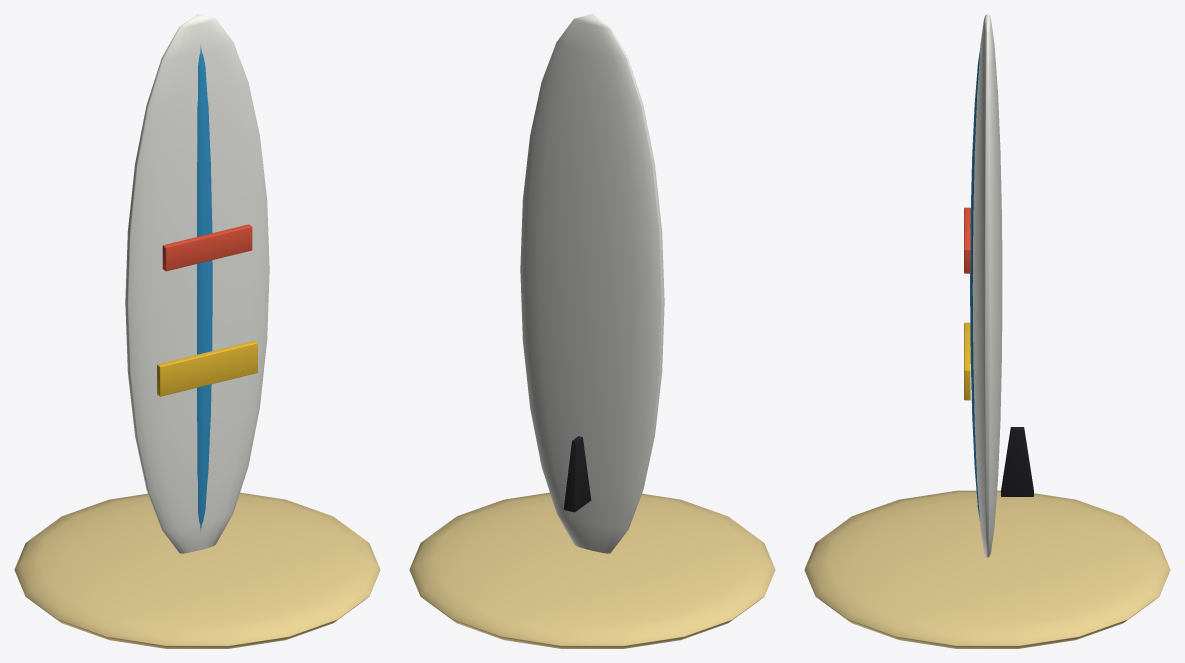
The model's file is surfboard.glb.
3 renders of one model, left to right at view 1: azimuth 30°, elevation 25°; view 2: azimuth 150°, elevation 25°; view 3: azimuth 270°, elevation 25°, orthographic.
Visible parts, largest first — view 1: surfboard; view 2: surfboard; view 3: surfboard.
Boxes of the visible parts, x1,y1,x2,y2 form: surfboard: [14, 14, 380, 648]; surfboard: [409, 14, 775, 648]; surfboard: [804, 14, 1170, 648].
Size of the model in its own units: 1.08 by 1.91 by 1.1.
